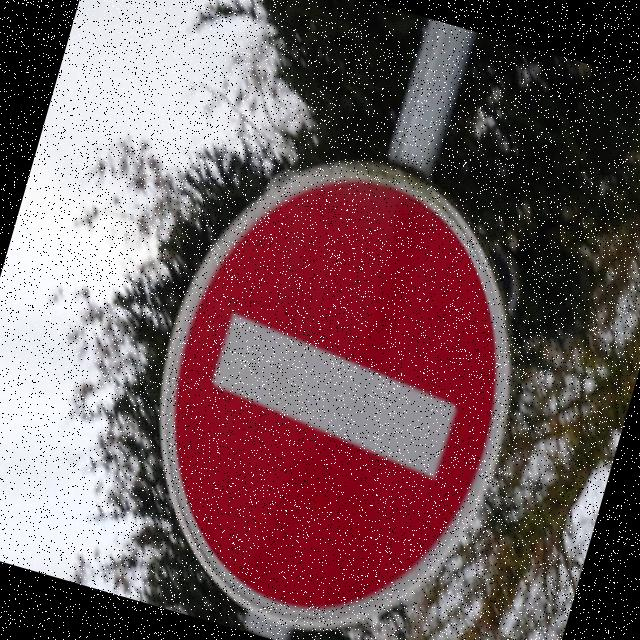do_not_enter: (82, 97, 579, 640)
